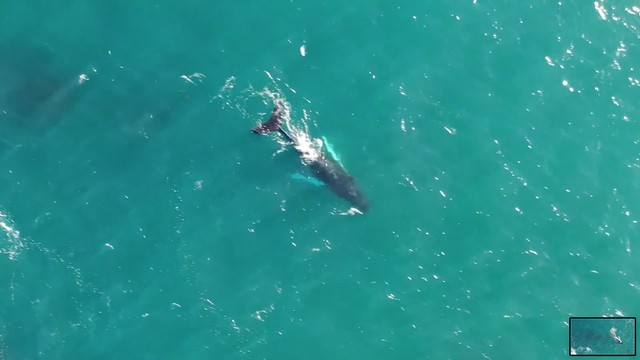whale: (245, 91, 380, 223)
